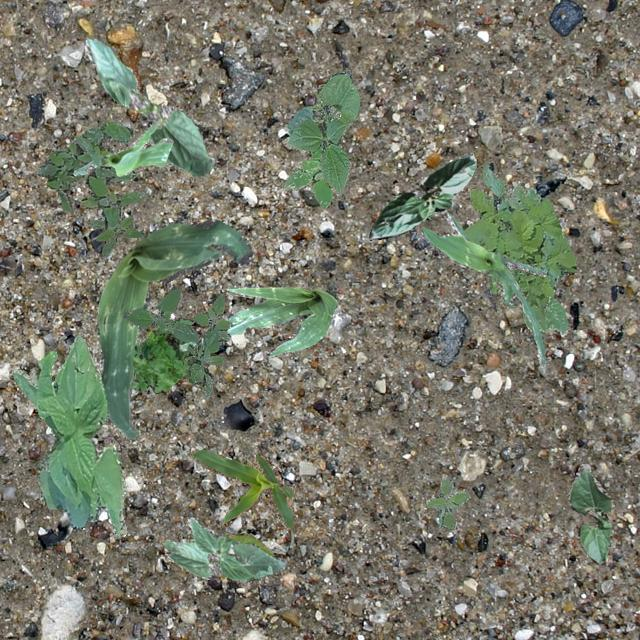crop: (96, 217, 252, 438), (11, 334, 126, 536), (420, 210, 546, 366), (84, 38, 210, 175), (178, 285, 336, 357), (188, 448, 294, 542), (282, 70, 358, 194), (368, 152, 476, 238), (160, 516, 286, 580), (72, 120, 172, 176), (568, 462, 614, 564), (522, 298, 568, 334), (221, 532, 273, 554)
weed: (462, 164, 576, 322), (123, 286, 230, 398), (34, 122, 146, 228), (130, 316, 194, 392), (282, 144, 332, 208), (84, 212, 142, 258), (426, 476, 470, 530)
